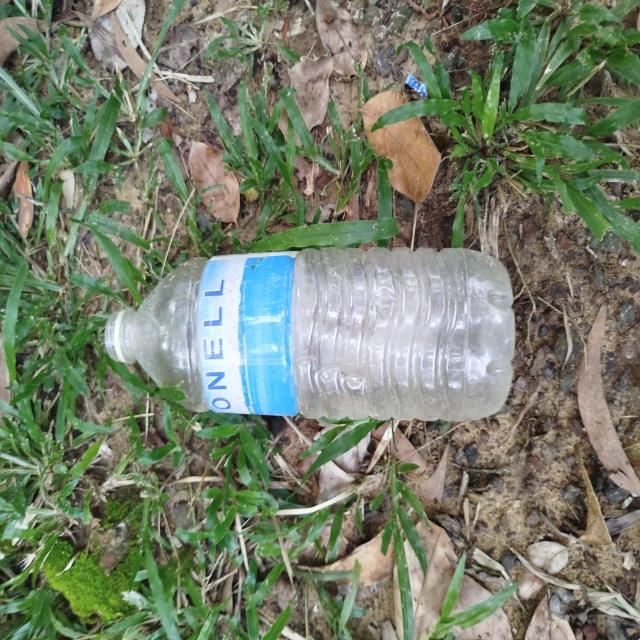plastic: (88, 237, 536, 431)
